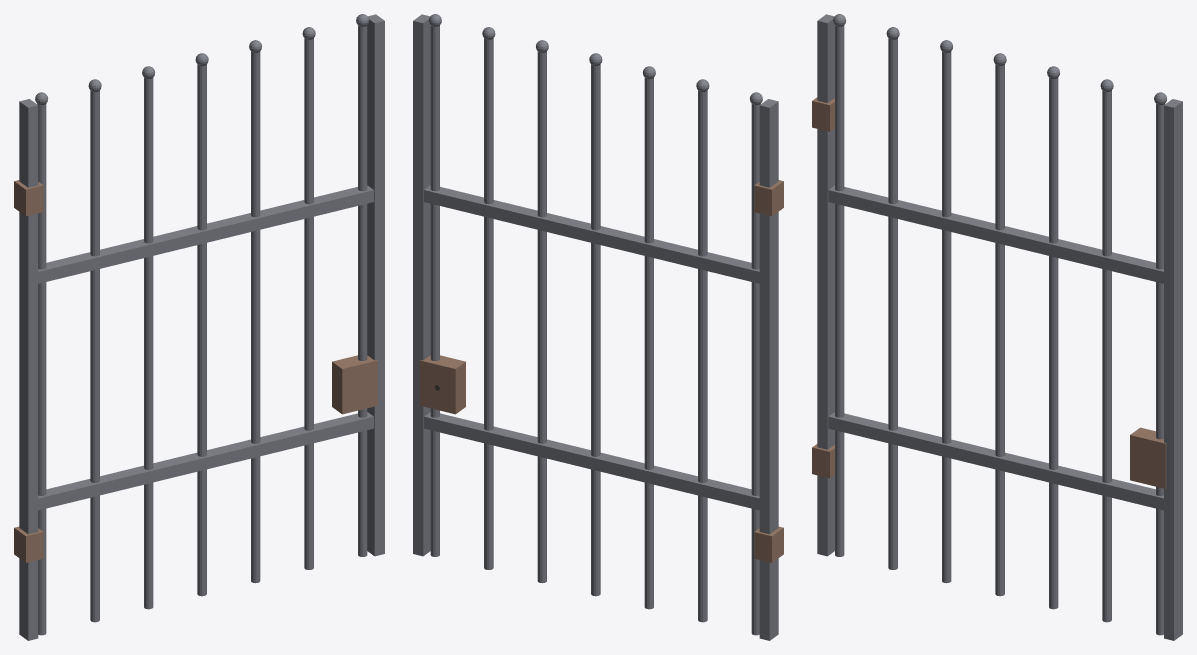
File: cell_gate.glb
3 views of the same model, side by side, from view 1: azimuth 30°, elevation 25°; view 2: azimuth 150°, elevation 25°; view 3: azimuth 330°, elevation 25° (orthographic).
Visible parts, largest first — view 1: CellGate; view 2: CellGate; view 3: CellGate.
Part boxes in pixels (x1=…): CellGate: x1=14, y1=14, x2=384, y2=640; CellGate: x1=413, y1=14, x2=783, y2=640; CellGate: x1=812, y1=14, x2=1182, y2=640.
Size of the model in its own units: 2.83 by 4.06 by 0.16.
